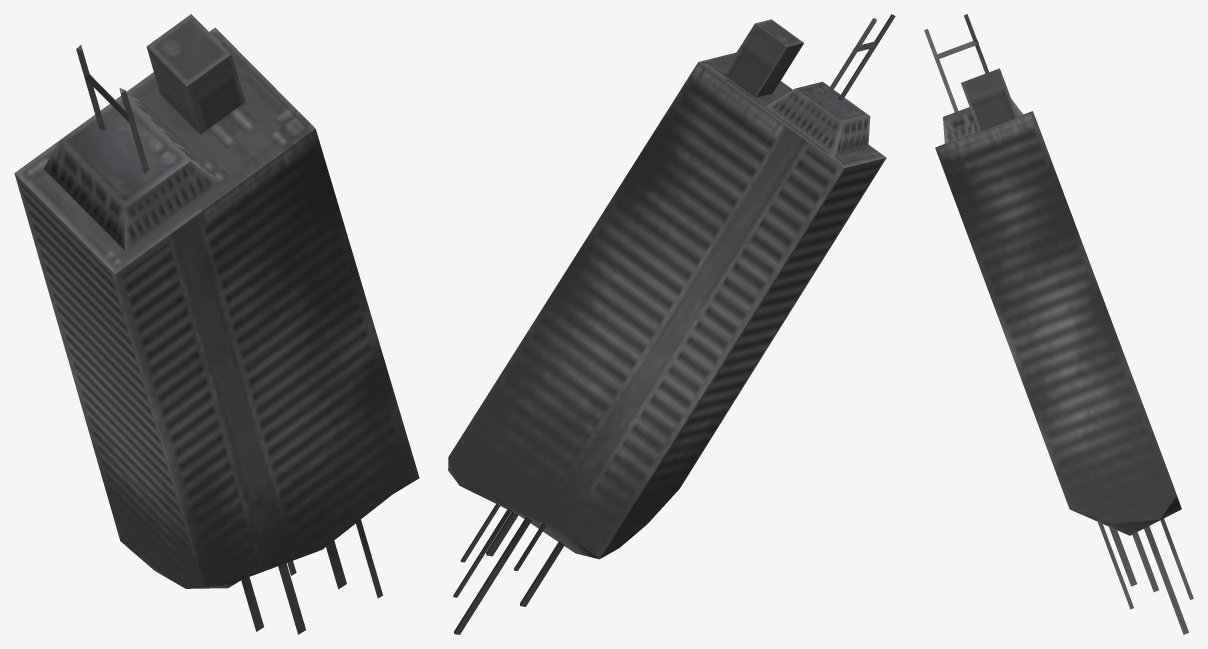
Rendered from skyBuildingAAC_pos_grp (27).fbx.
3 views of the same model, side by side, from view 1: azimuth 30°, elevation 25°; view 2: azimuth 150°, elevation 25°; view 3: azimuth 270°, elevation 25° (orthographic). The views are drawn at different scales.
Parts seen in each view (by area): view 1: skyBuildingAAC_geo; view 2: skyBuildingAAC_geo; view 3: skyBuildingAAC_geo.
Part boxes in pixels (bbox=[...]): skyBuildingAAC_geo: bbox=[14, 14, 419, 634]; skyBuildingAAC_geo: bbox=[448, 14, 895, 634]; skyBuildingAAC_geo: bbox=[924, 14, 1193, 634].
Size of the model in its own units: 6.47 by 11.23 by 5.47.
